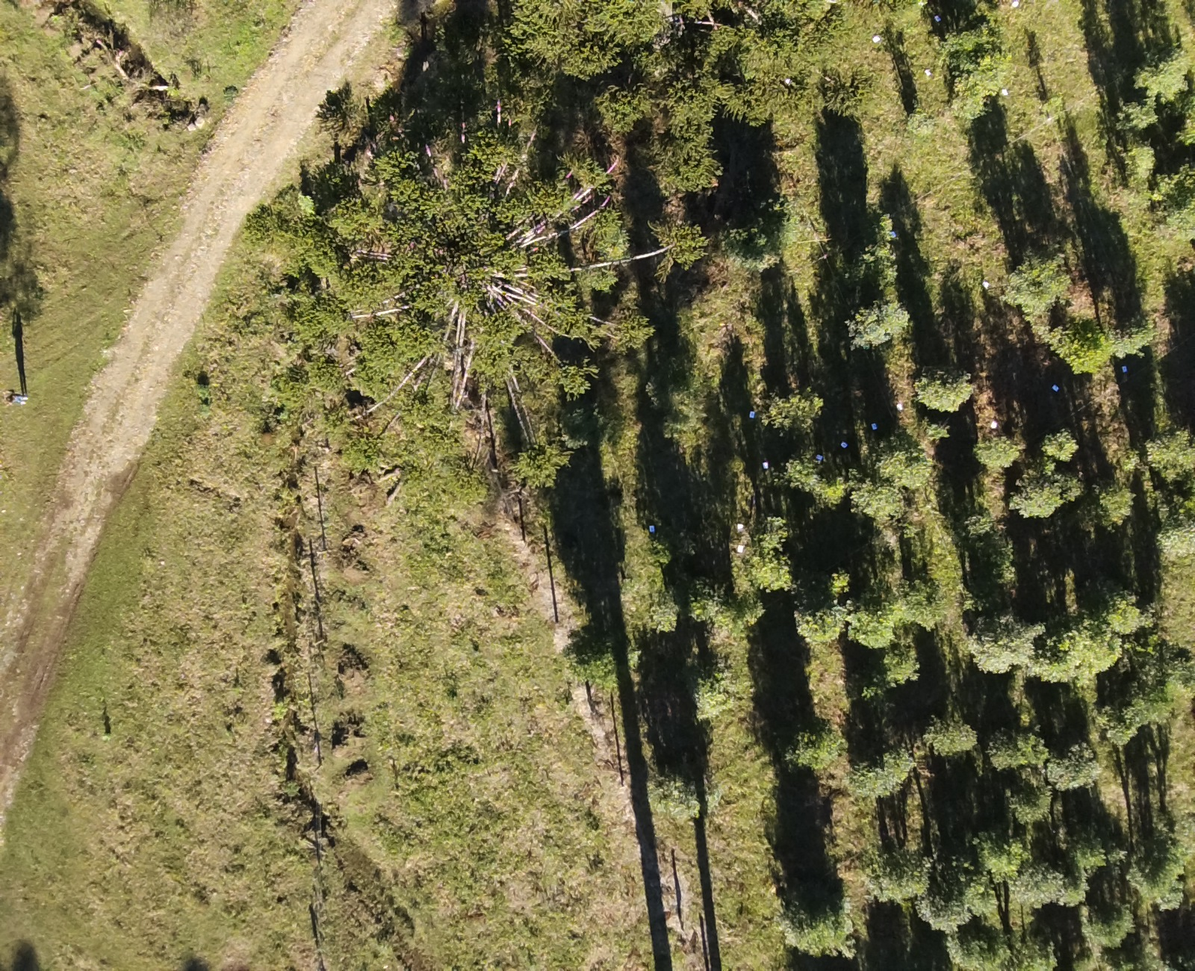erva: (957, 604, 1042, 669), (999, 245, 1073, 313), (860, 841, 931, 910), (775, 899, 855, 960), (839, 291, 907, 356), (645, 772, 719, 827), (615, 563, 675, 629), (780, 586, 846, 646), (907, 879, 974, 938), (862, 434, 931, 491), (1061, 601, 1115, 673), (836, 586, 898, 648), (721, 218, 795, 269), (910, 356, 977, 412), (999, 860, 1070, 911), (1114, 52, 1194, 97), (845, 478, 910, 533), (937, 916, 1003, 970), (783, 723, 843, 782), (1038, 739, 1101, 795), (850, 203, 905, 267), (890, 571, 943, 637), (1132, 845, 1181, 916), (890, 403, 952, 459), (1002, 468, 1065, 523), (674, 668, 737, 723), (1075, 904, 1137, 958), (968, 823, 1028, 877), (1073, 484, 1135, 535), (917, 706, 977, 758), (766, 388, 836, 429), (1105, 314, 1164, 362), (925, 31, 1005, 66), (1049, 330, 1110, 373), (872, 641, 916, 700), (1104, 588, 1158, 636), (1097, 707, 1146, 759), (1146, 428, 1194, 480), (1000, 928, 1058, 969), (804, 472, 850, 523), (745, 552, 799, 595), (772, 447, 821, 493), (969, 430, 1020, 474), (751, 503, 795, 553), (837, 762, 887, 806), (1111, 146, 1158, 192), (1154, 506, 1194, 560), (1072, 825, 1114, 874), (1031, 639, 1071, 690), (1123, 688, 1171, 730), (966, 55, 1017, 92), (1152, 195, 1194, 239), (898, 103, 939, 143), (1036, 425, 1077, 462), (1109, 437, 1138, 481), (1114, 99, 1157, 128), (708, 617, 741, 654), (949, 83, 982, 117), (730, 594, 762, 629), (689, 577, 717, 616), (1061, 471, 1089, 496)
